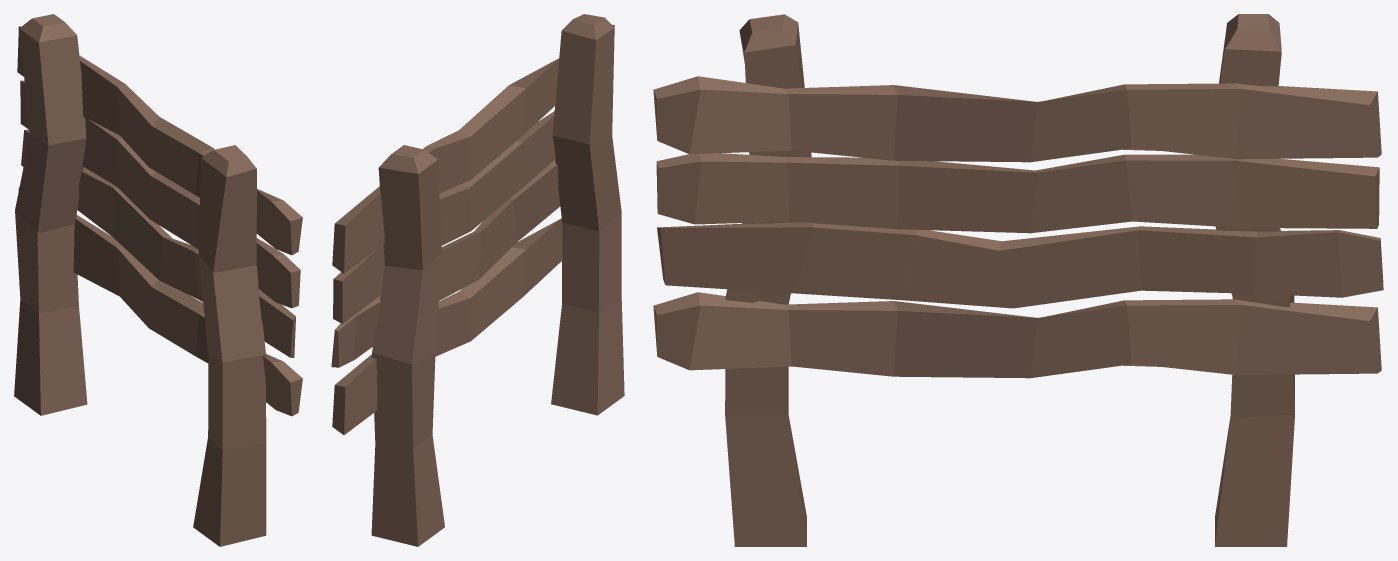
Rendered from Sign.fbx.
3 views of the same model, side by side, from view 1: azimuth 30°, elevation 25°; view 2: azimuth 150°, elevation 25°; view 3: azimuth 270°, elevation 25° (orthographic). The views are drawn at different scales.
Parts seen in each view (by area): view 1: Cube; view 2: Cube; view 3: Cube.
Part boxes in pixels (x1=…): Cube: x1=14, y1=14, x2=302, y2=546; Cube: x1=331, y1=14, x2=624, y2=546; Cube: x1=653, y1=14, x2=1383, y2=546.
Size of the model in its own units: 129 by 818 by 1061.
